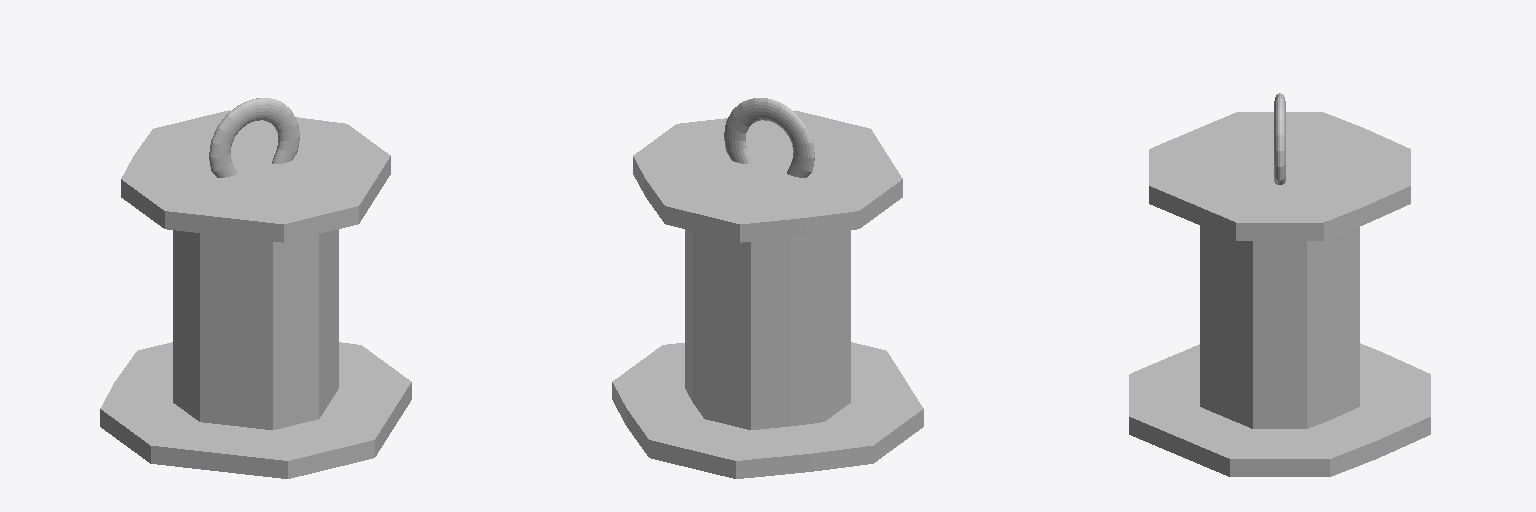
The model's file is lantern.obj.
3 views of the same model, side by side, from view 1: azimuth 30°, elevation 25°; view 2: azimuth 150°, elevation 25°; view 3: azimuth 270°, elevation 25° (orthographic).
Visible parts, largest first — view 1: pCube4; view 2: pCube4; view 3: pCube4.
Part boxes in pixels (bbox=[...]): pCube4: bbox=[100, 98, 411, 478]; pCube4: bbox=[612, 98, 923, 478]; pCube4: bbox=[1129, 93, 1430, 476].
Size of the model in its own units: 3.75 by 4.32 by 3.75.